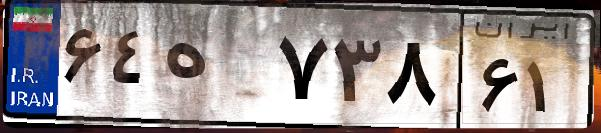1: (525, 38, 570, 115)
3: (330, 28, 385, 110)
4: (110, 28, 158, 98)
6: (57, 26, 110, 100), (475, 38, 525, 113)
7: (270, 28, 330, 110)
8: (385, 28, 445, 110)
ه: (158, 20, 270, 120)
